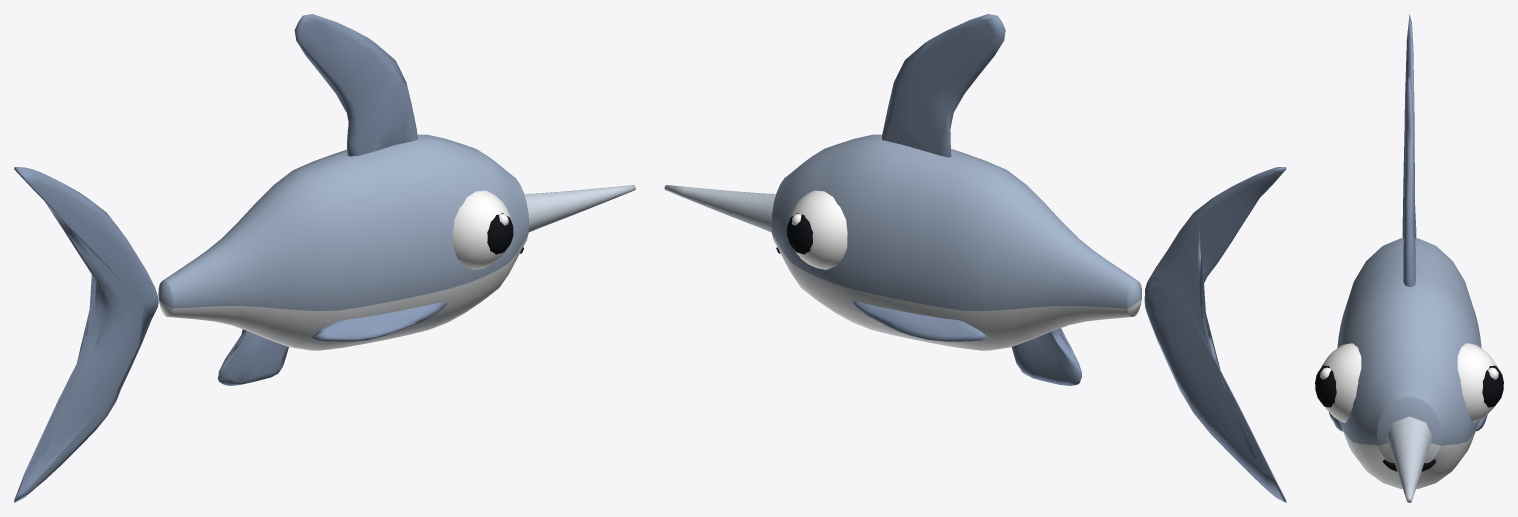
File: fish_swordfish.glb
3 renders of one model, left to right at view 1: azimuth 30°, elevation 25°; view 2: azimuth 150°, elevation 25°; view 3: azimuth 270°, elevation 25°, orthographic. The views are drawn at different scales.
Parts seen in each view (by area): view 1: Fish, Tail, FinR; view 2: Fish, Tail, FinL; view 3: Fish, Tail.
Part boxes in pixels (x1,y1,x2,y2): Fish: (158, 14, 635, 385); Tail: (14, 167, 158, 502); FinR: (312, 302, 447, 341); Fish: (664, 14, 1141, 385); Tail: (1144, 167, 1286, 502); FinL: (852, 301, 988, 341); Fish: (1315, 75, 1503, 502); Tail: (1402, 14, 1416, 238).
Size of the model in its own units: 2.05 by 1.32 by 0.5269.
